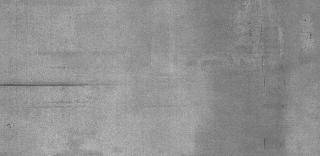scratches: (1, 80, 147, 88)
